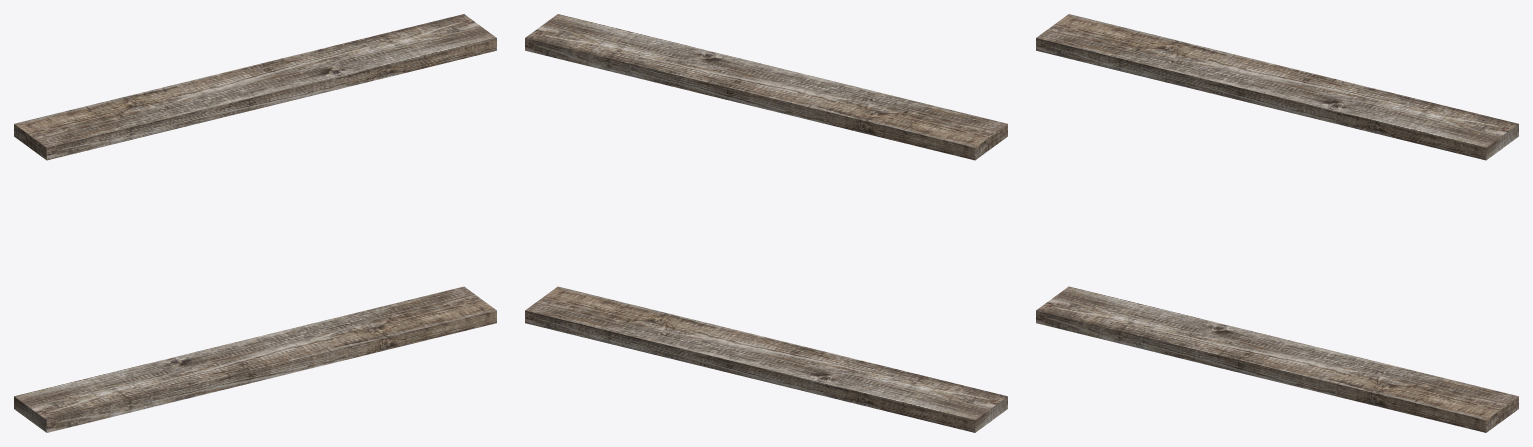
File: WoodenSupport.fbx
3 renders of one model, left to right at view 1: azimuth 30°, elevation 25°; view 2: azimuth 150°, elevation 25°; view 3: azimuth 330°, elevation 25°, orthographic.
Visible parts, largest first — view 1: Cube.002, Cube.006; view 2: Cube.002, Cube.006; view 3: Cube.002, Cube.006.
Boxes of the visible parts, bbox=[...] form: Cube.002: bbox=[14, 286, 496, 432]; Cube.006: bbox=[14, 14, 496, 160]; Cube.002: bbox=[525, 286, 1007, 432]; Cube.006: bbox=[525, 14, 1007, 160]; Cube.002: bbox=[1036, 286, 1518, 432]; Cube.006: bbox=[1036, 14, 1518, 160].
Size of the model in its own units: 331 by 200 by 41.79.
